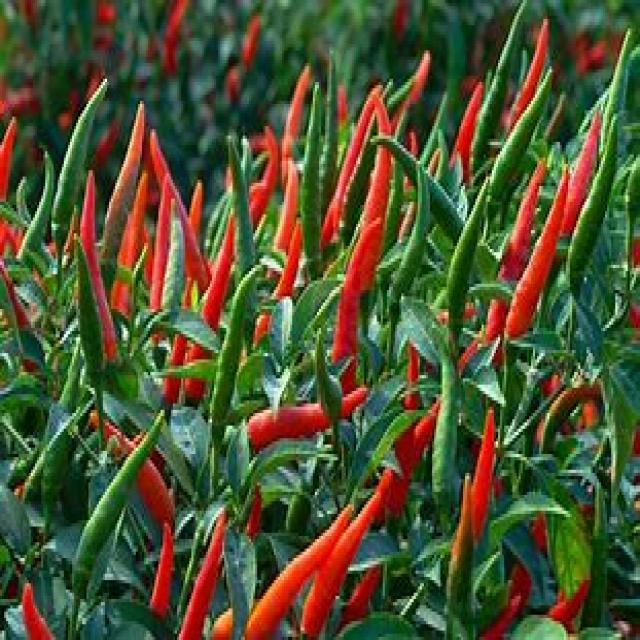Mosaic_virus: (1, 64, 640, 640)
